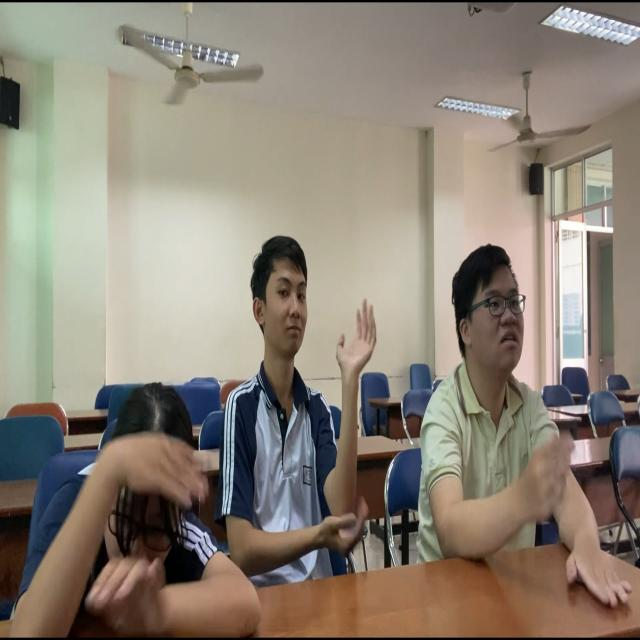raise_hand: (232, 234, 379, 590)
sleep: (1, 380, 261, 640)
